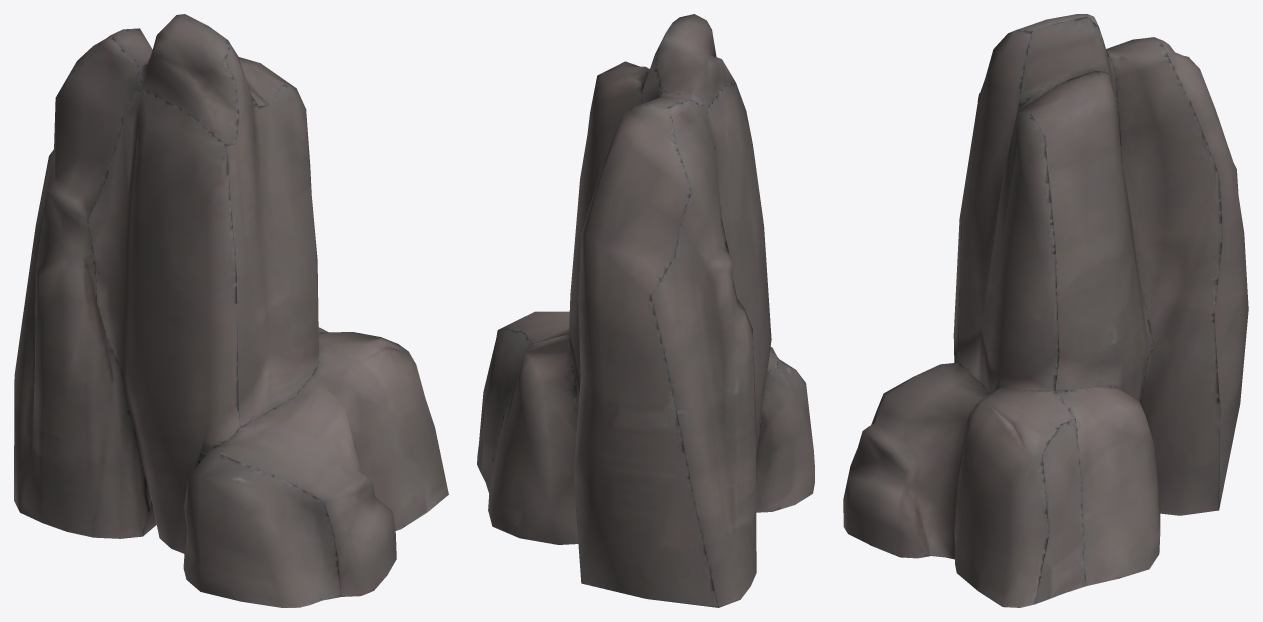
3 renders of one model, left to right at view 1: azimuth 30°, elevation 25°; view 2: azimuth 150°, elevation 25°; view 3: azimuth 270°, elevation 25°, orthographic. The views are drawn at different scales.
Visible parts, largest first — view 1: body0_model0_lod0_mesh0; view 2: body0_model0_lod0_mesh0; view 3: body0_model0_lod0_mesh0.
Part boxes in pixels (x1=…): body0_model0_lod0_mesh0: x1=14, y1=14, x2=448, y2=607; body0_model0_lod0_mesh0: x1=477, y1=14, x2=814, y2=607; body0_model0_lod0_mesh0: x1=843, y1=14, x2=1248, y2=607.
Bounding box in the file's own units: 270 × 379 × 286.
Materials: 1 (1 with a texture image).
